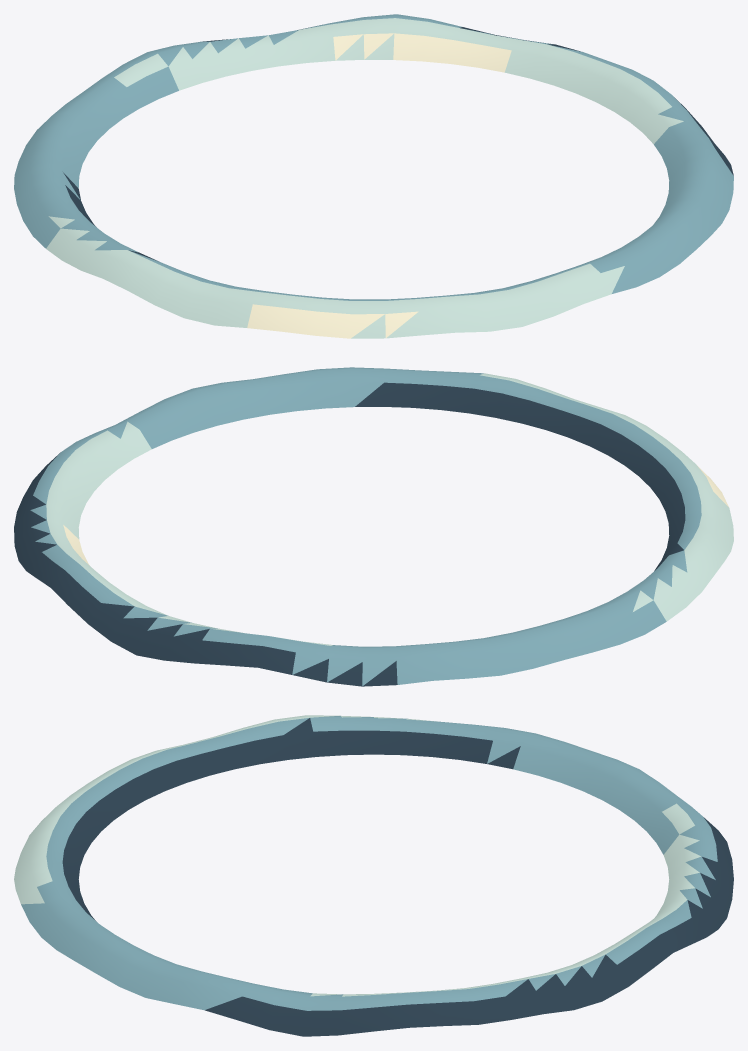
Rendered from shockwave_ring.glb.
The picture shows the model from 3 angles, top to bottom: view 1: azimuth 30°, elevation 25°; view 2: azimuth 150°, elevation 25°; view 3: azimuth 270°, elevation 25°; orthographic projection.
Visible parts, largest first — view 1: shockwave_ring; view 2: shockwave_ring; view 3: shockwave_ring.
Boxes of the visible parts, left/top/right/bottom form: shockwave_ring: left=14, top=14, right=733, bottom=338; shockwave_ring: left=14, top=367, right=733, bottom=686; shockwave_ring: left=14, top=715, right=733, bottom=1036.
Bounding box in the file's own units: 2 × 0.1154 × 2.
